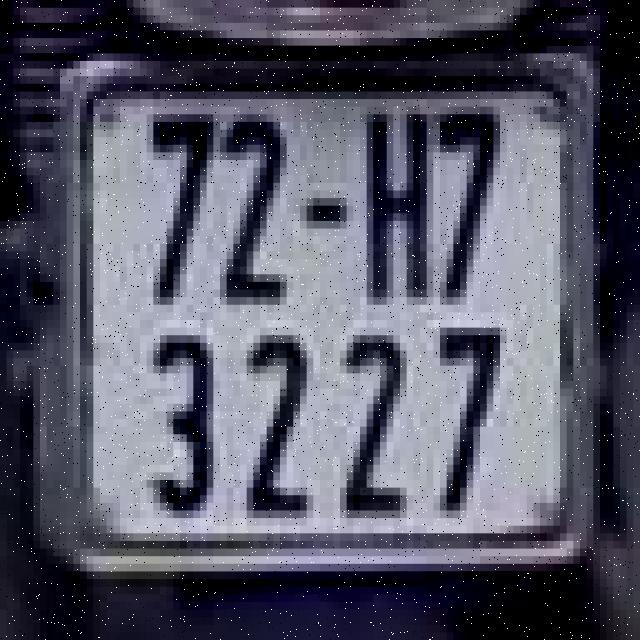2: (333, 316, 420, 537), (213, 107, 300, 312), (237, 328, 323, 518)
3: (147, 320, 233, 526)
7: (133, 99, 220, 305), (430, 316, 510, 522), (433, 103, 507, 308)
H: (356, 95, 436, 316)
